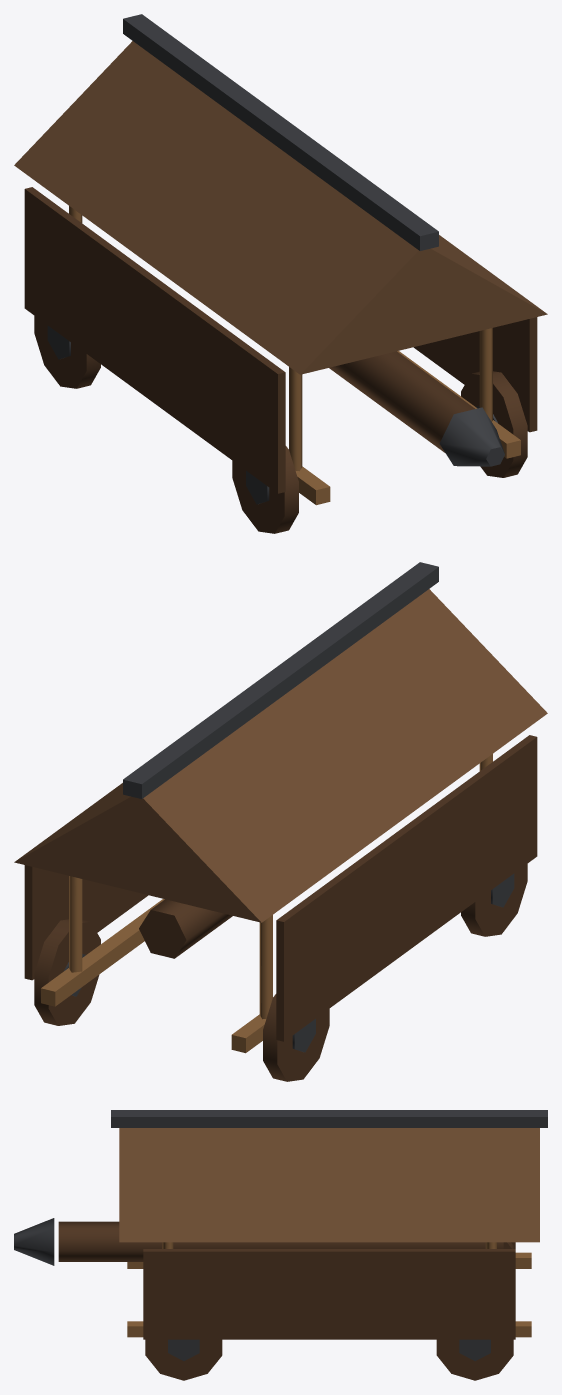
The model's file is unit_mil_ram_a02.glb.
3 views of the same model, one above another, from view 1: azimuth 30°, elevation 25°; view 2: azimuth 150°, elevation 25°; view 3: azimuth 270°, elevation 25° (orthographic). The views are drawn at different scales.
Visible parts, largest first — view 1: body, ram, wheel_2, wheel_3, wheel_0; view 2: body, wheel_1, ram, wheel_0, wheel_2; view 3: body, ram, wheel_1, wheel_3.
Part boxes in pixels (x1,y1,x2,y2): body: (14,14,547,505); ram: (329,351,504,466); wheel_2: (232,446,298,533); wheel_3: (461,371,527,477); wheel_0: (34,316,100,388); body: (14,562,547,1053); wheel_1: (34,919,100,1025); ram: (139,899,232,958); wheel_0: (263,994,329,1081); wheel_2: (461,864,527,936); body: (111,1110,547,1339); ram: (14,1218,503,1265); wheel_1: (436,1339,513,1380); wheel_3: (145,1339,222,1380).
Size of what is drawn, in the model's own units: 2.72 by 3.05 by 6.6.
